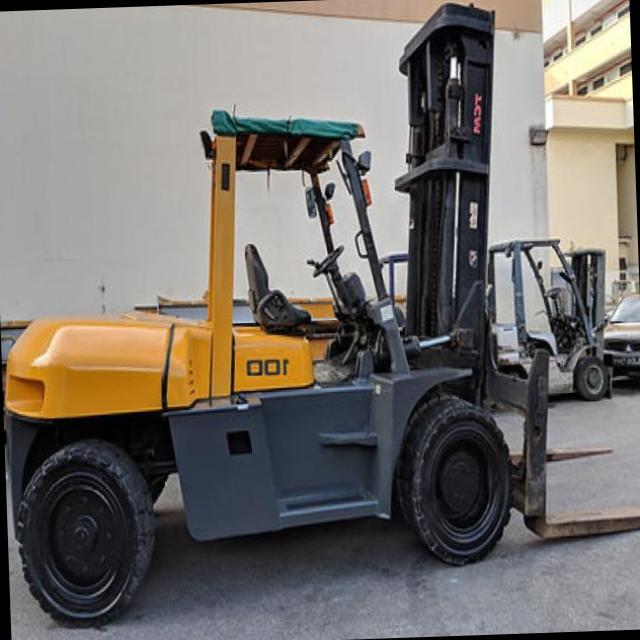forklift: (0, 0, 527, 635)
